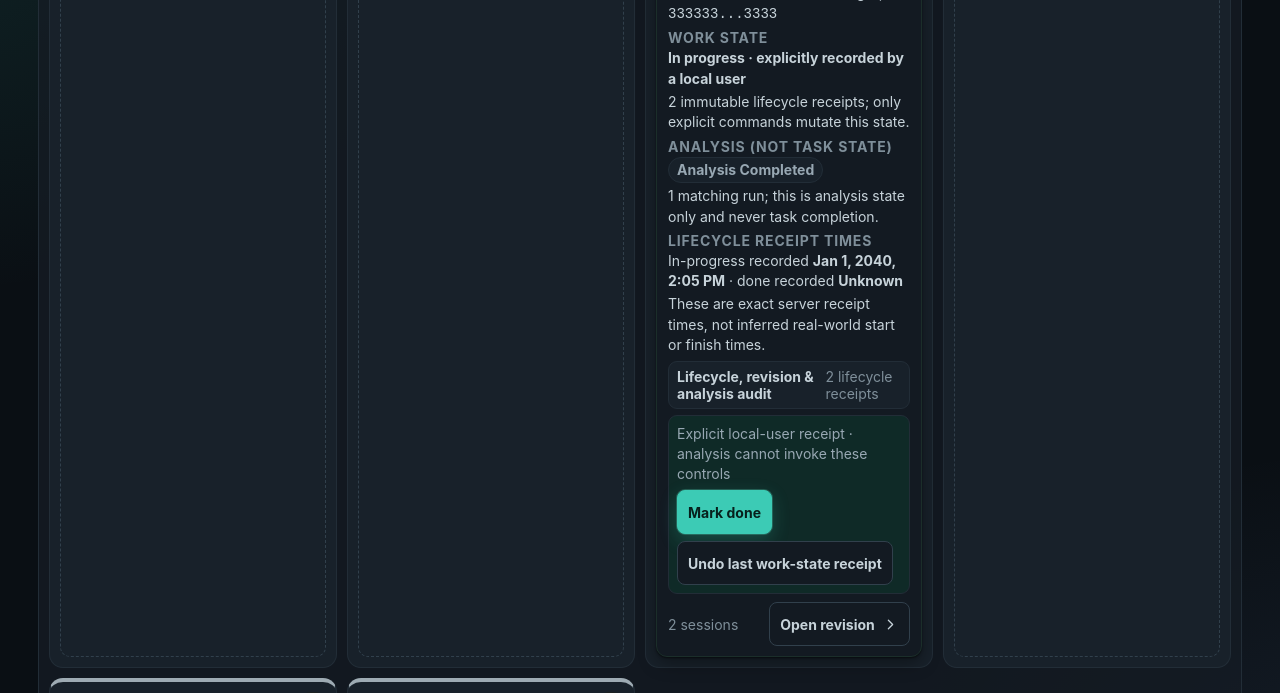
Test: TaskFlowPage › shows append-only lifecycle receipts beside immutable revisions and analysis
(page scrolled)
Step 1. Click the heading "Lifecycle, revision & analysis audit 2 lifecycle receipts" → (789, 385), box [669,362,909,408]
(page scrolled)
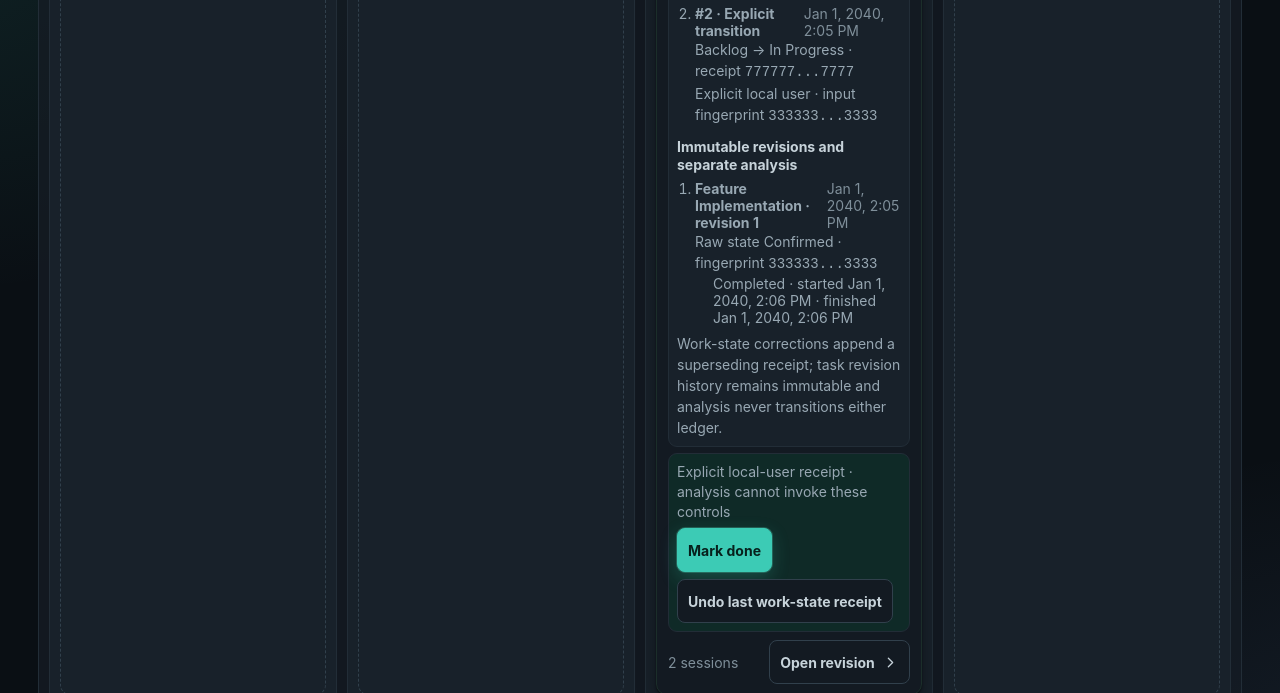
Result: the list named "Immutable task revision history" is shown at [677,180,901,326]
Result: the text "Completed · started" is shown at [713,275,885,326]
Result: the text "corrections append a superseding receipt" is shown at [677,335,900,436]
